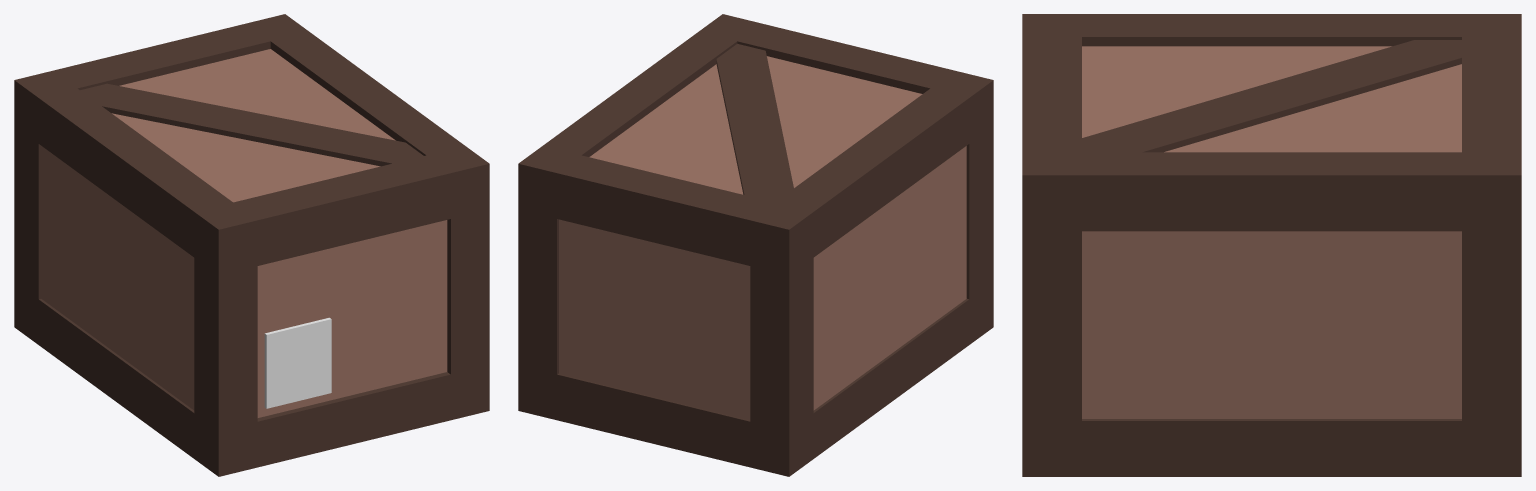
Rendered from Crate_01.glb.
3 renders of one model, left to right at view 1: azimuth 30°, elevation 25°; view 2: azimuth 150°, elevation 25°; view 3: azimuth 270°, elevation 25°, orthographic. The views are drawn at different scales.
Visible parts, largest first — view 1: Crate_1_mesh; view 2: Crate_1_mesh; view 3: Crate_1_mesh.
Boxes of the visible parts, x1=… form: Crate_1_mesh: x1=14, y1=14, x2=489, y2=476; Crate_1_mesh: x1=518, y1=14, x2=993, y2=476; Crate_1_mesh: x1=1022, y1=14, x2=1521, y2=476.
Bounding box in the file's own units: 0.5882 × 0.5128 × 0.7691.
1 material, 1 textured.
